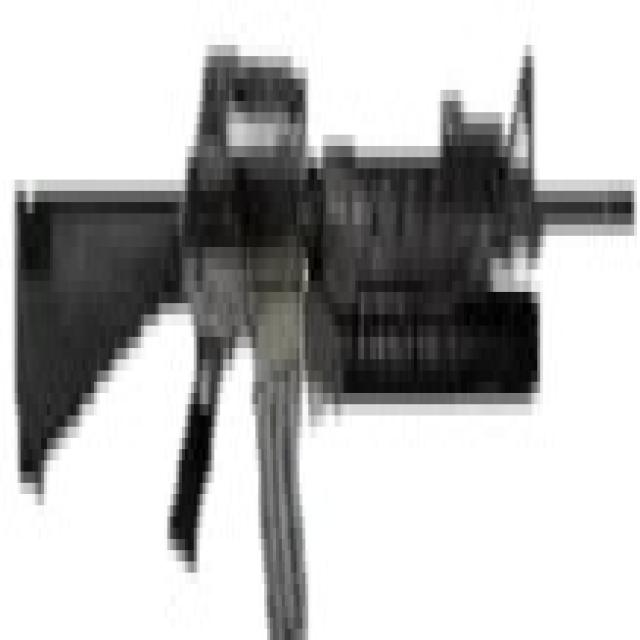rifle: (9, 18, 640, 640)
